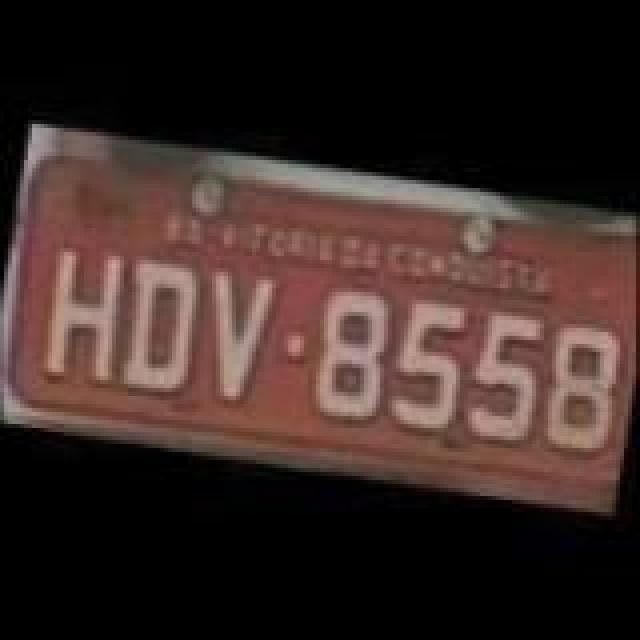5: (378, 288, 478, 444), (454, 298, 554, 454)
8: (522, 306, 630, 462), (300, 276, 396, 432)
D: (106, 248, 218, 404)
H: (34, 234, 138, 390)
V: (186, 256, 290, 408)
